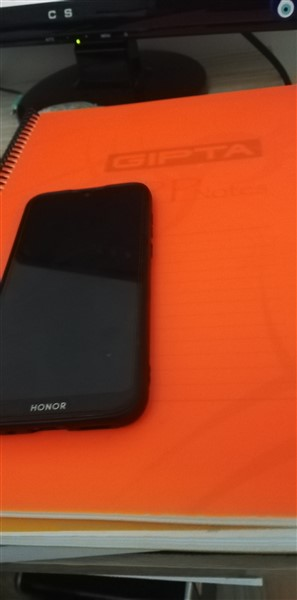telefon: (1, 180, 159, 442)
